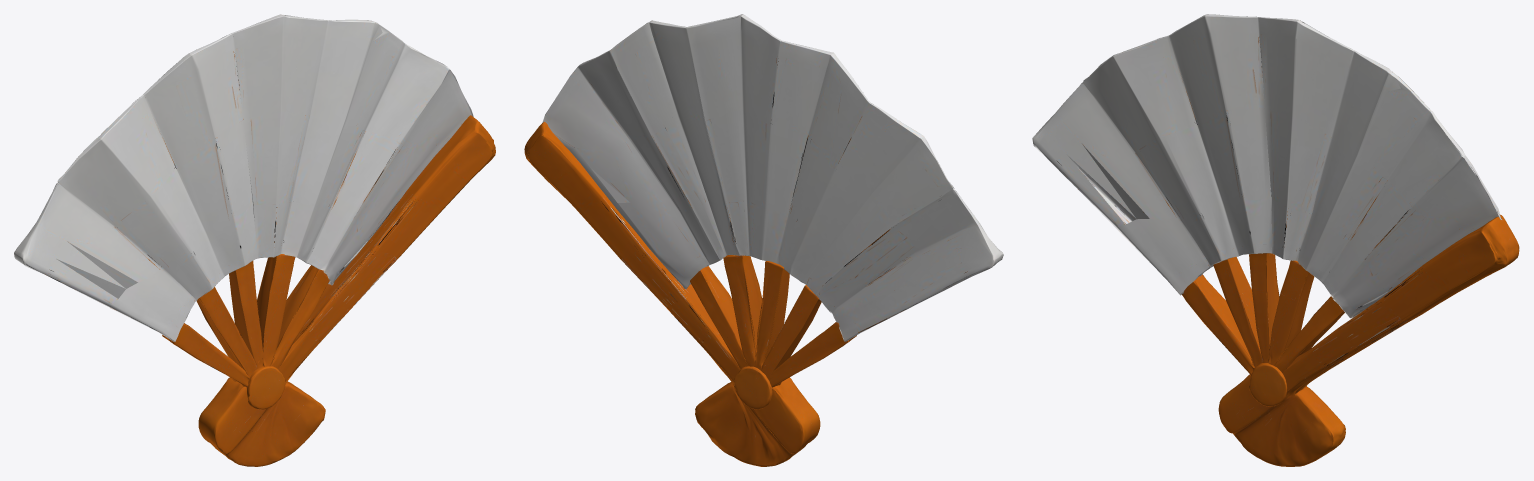
The model's file is fan.glb.
3 views of the same model, side by side, from view 1: azimuth 30°, elevation 25°; view 2: azimuth 150°, elevation 25°; view 3: azimuth 330°, elevation 25° (orthographic).
Parts seen in each view (by area): view 1: geometry_0; view 2: geometry_0; view 3: geometry_0.
Part boxes in pixels (x1,y1,x2,y2): geometry_0: (14,14,495,466); geometry_0: (524,14,1003,466); geometry_0: (1032,14,1519,466).
Bounding box in the file's own units: 0.9556 × 0.8569 × 0.0737.
1 material, 1 textured.
